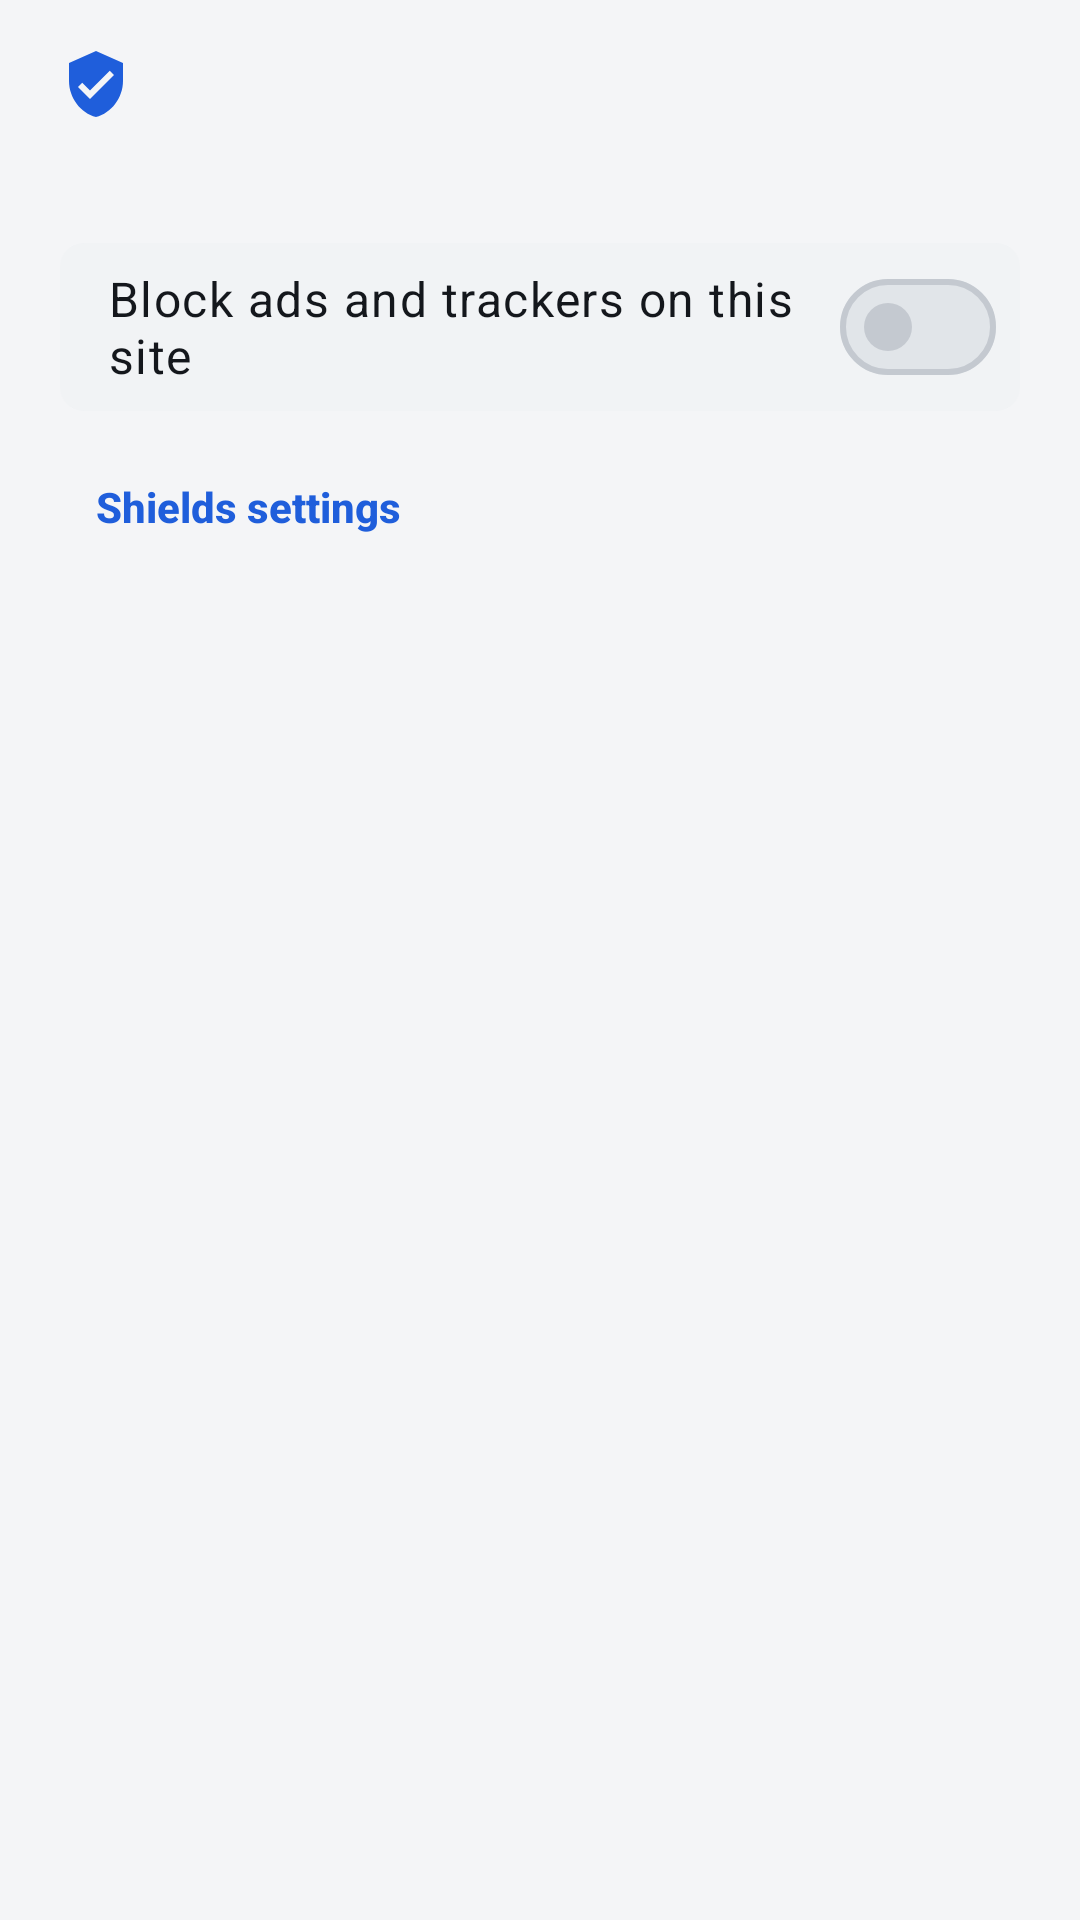

Icon bounding boxes for this 1080*1920 phone screenshot, format (x1, y1, x2, y2):
shield: (69, 51, 123, 117)
